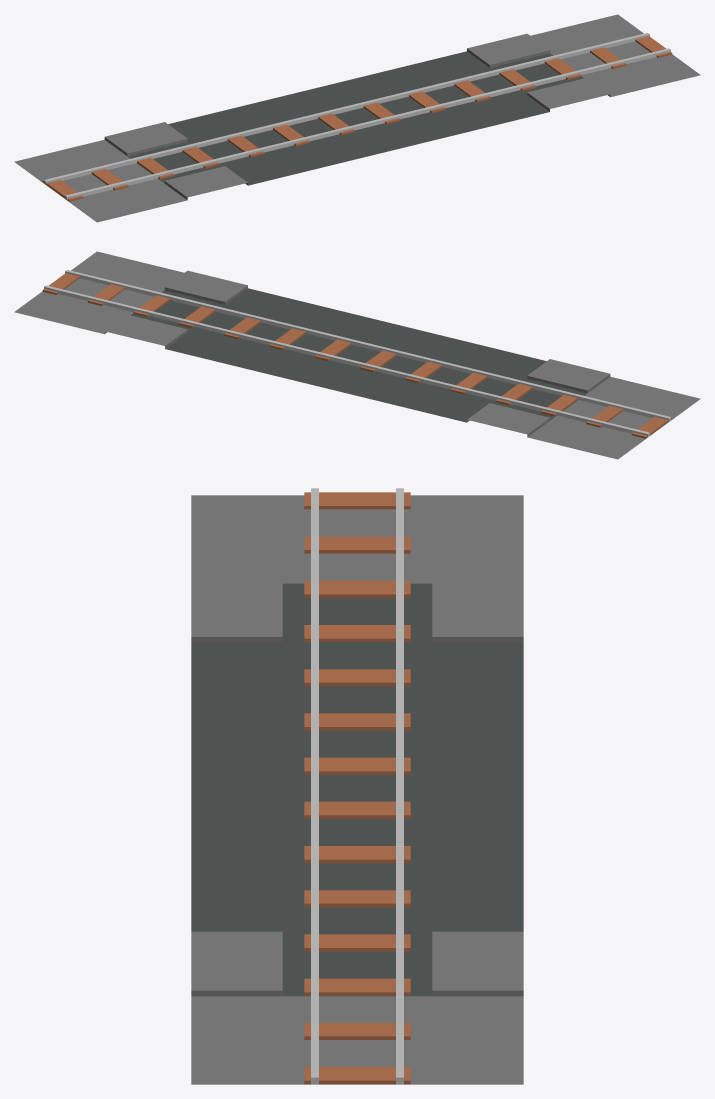
File: Road_Railroad_1.fbx
3 renders of one model, top to bottom at view 1: azimuth 30°, elevation 25°; view 2: azimuth 150°, elevation 25°; view 3: azimuth 270°, elevation 25°, orthographic. The views are drawn at different scales.
Parts seen in each view (by area): view 1: Road_Railroad_1; view 2: Road_Railroad_1; view 3: Road_Railroad_1.
Part boxes in pixels (x1,y1,x2,y2): Road_Railroad_1: (14, 14, 700, 222); Road_Railroad_1: (14, 251, 700, 459); Road_Railroad_1: (191, 488, 523, 1084).
Size of the model in its own units: 42 by 0.2378 by 10.
Materials: 1 (1 with a texture image).
